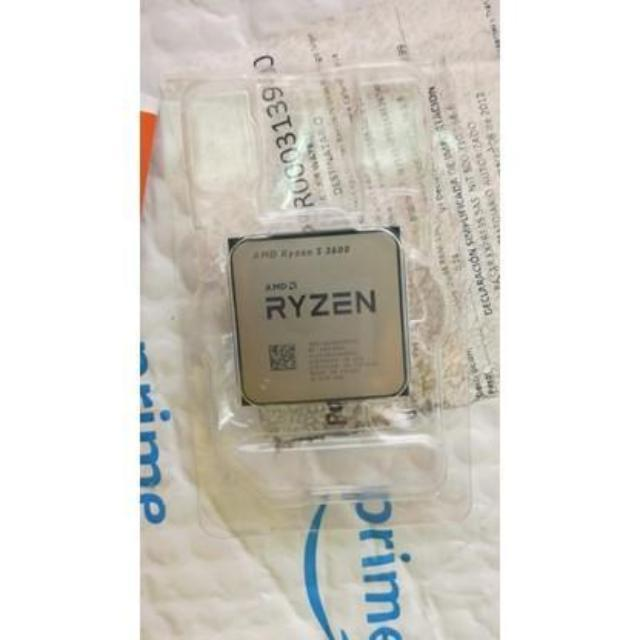CPU: (231, 234, 409, 403)
